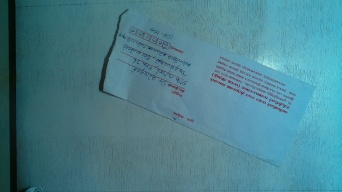l: (105, 8, 320, 175)
